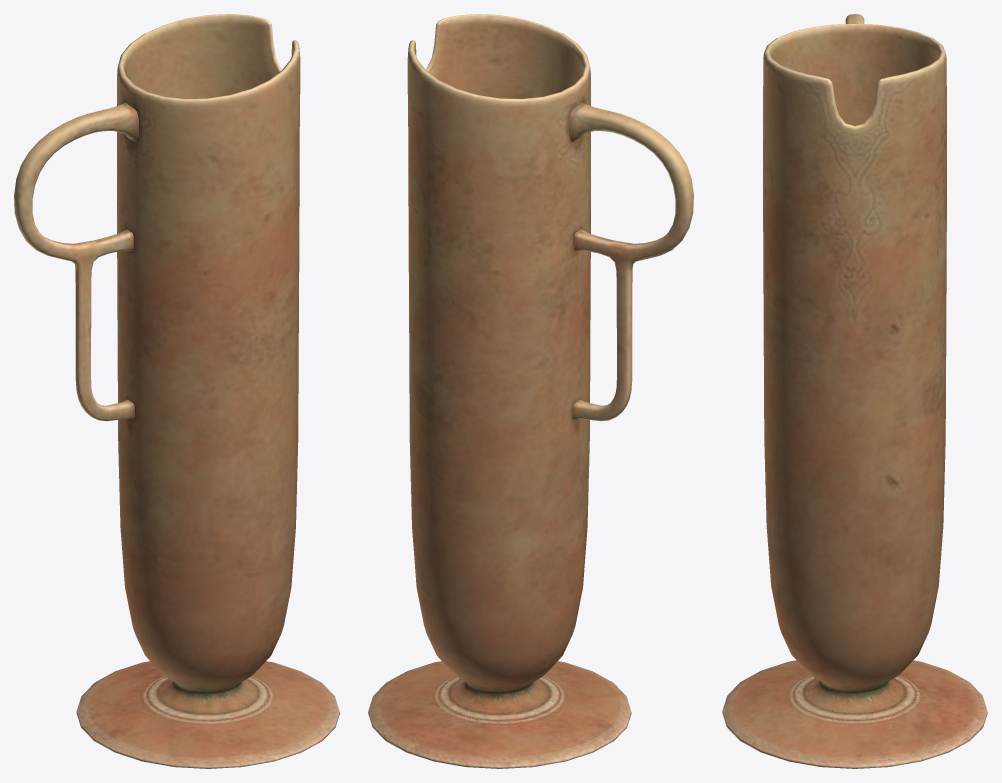
File: brass_vase.glb
3 renders of one model, left to right at view 1: azimuth 30°, elevation 25°; view 2: azimuth 150°, elevation 25°; view 3: azimuth 270°, elevation 25°, orthographic.
Parts seen in each view (by area): view 1: brass_vase_04; view 2: brass_vase_04; view 3: brass_vase_04.
Boxes of the visible parts, left/top/right/bottom form: brass_vase_04: left=14, top=14, right=339, bottom=768; brass_vase_04: left=368, top=14, right=693, bottom=768; brass_vase_04: left=722, top=14, right=987, bottom=768.
Size of the model in its own units: 0.082 by 0.1703 by 0.061.
1 material, 1 textured.
